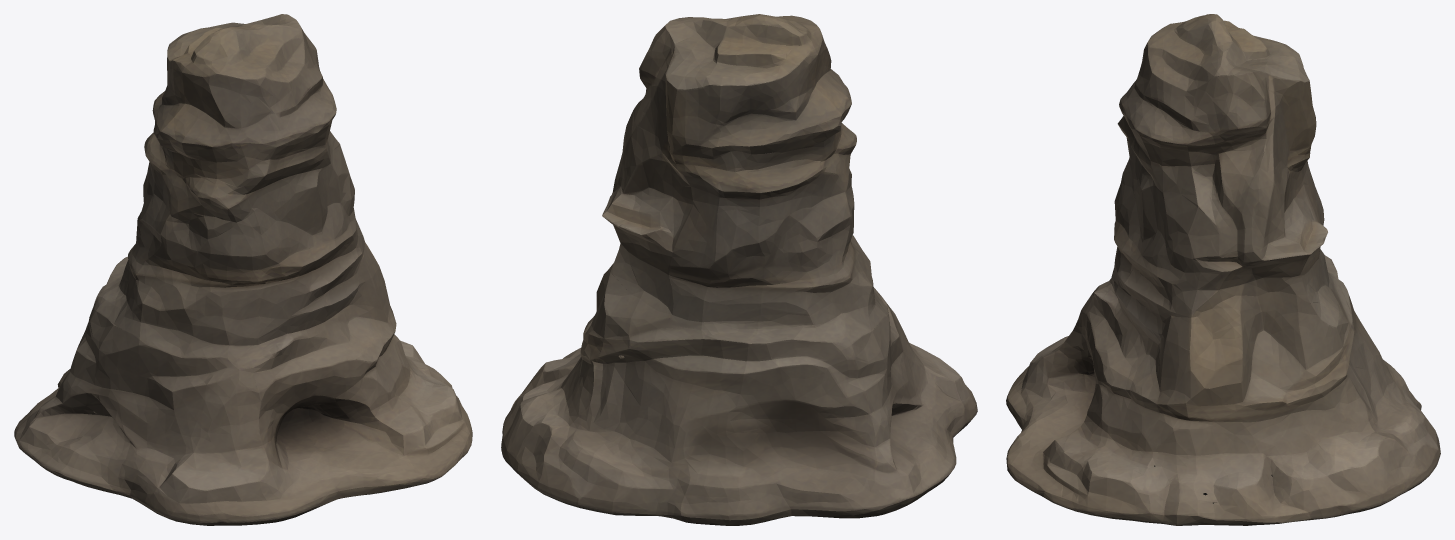
3 views of the same model, side by side, from view 1: azimuth 30°, elevation 25°; view 2: azimuth 150°, elevation 25°; view 3: azimuth 270°, elevation 25° (orthographic). The views are drawn at different scales.
Parts seen in each view (by area): view 1: world; view 2: world; view 3: world.
Boxes of the visible parts, x1=… form: world: x1=14, y1=14, x2=472, y2=525; world: x1=501, y1=14, x2=977, y2=525; world: x1=1006, y1=14, x2=1440, y2=525.
Size of the model in its own units: 0.9921 by 0.9959 by 0.9567.
1 material, 1 textured.
